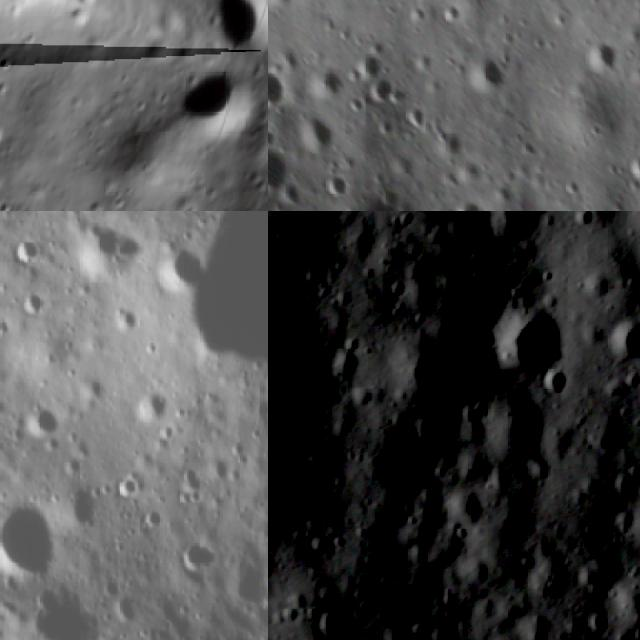crater: (268, 223, 372, 589), (386, 328, 484, 440), (160, 61, 268, 156), (0, 490, 72, 591), (493, 298, 574, 387), (488, 392, 561, 476), (75, 211, 151, 276), (473, 211, 561, 261), (464, 46, 516, 102), (20, 386, 68, 446), (598, 304, 640, 370), (312, 594, 363, 640), (333, 191, 437, 211), (296, 112, 338, 156), (507, 606, 561, 640), (348, 46, 392, 84), (584, 601, 624, 640), (583, 34, 619, 76), (620, 567, 640, 640), (9, 234, 47, 269), (268, 64, 294, 111), (268, 142, 290, 189), (0, 113, 19, 157), (624, 148, 640, 181), (629, 16, 640, 38)
